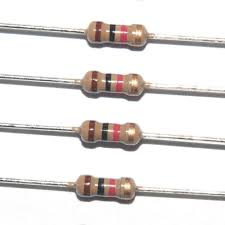resistor: (63, 10, 159, 62), (62, 162, 150, 213), (66, 64, 150, 107), (67, 116, 157, 156)
